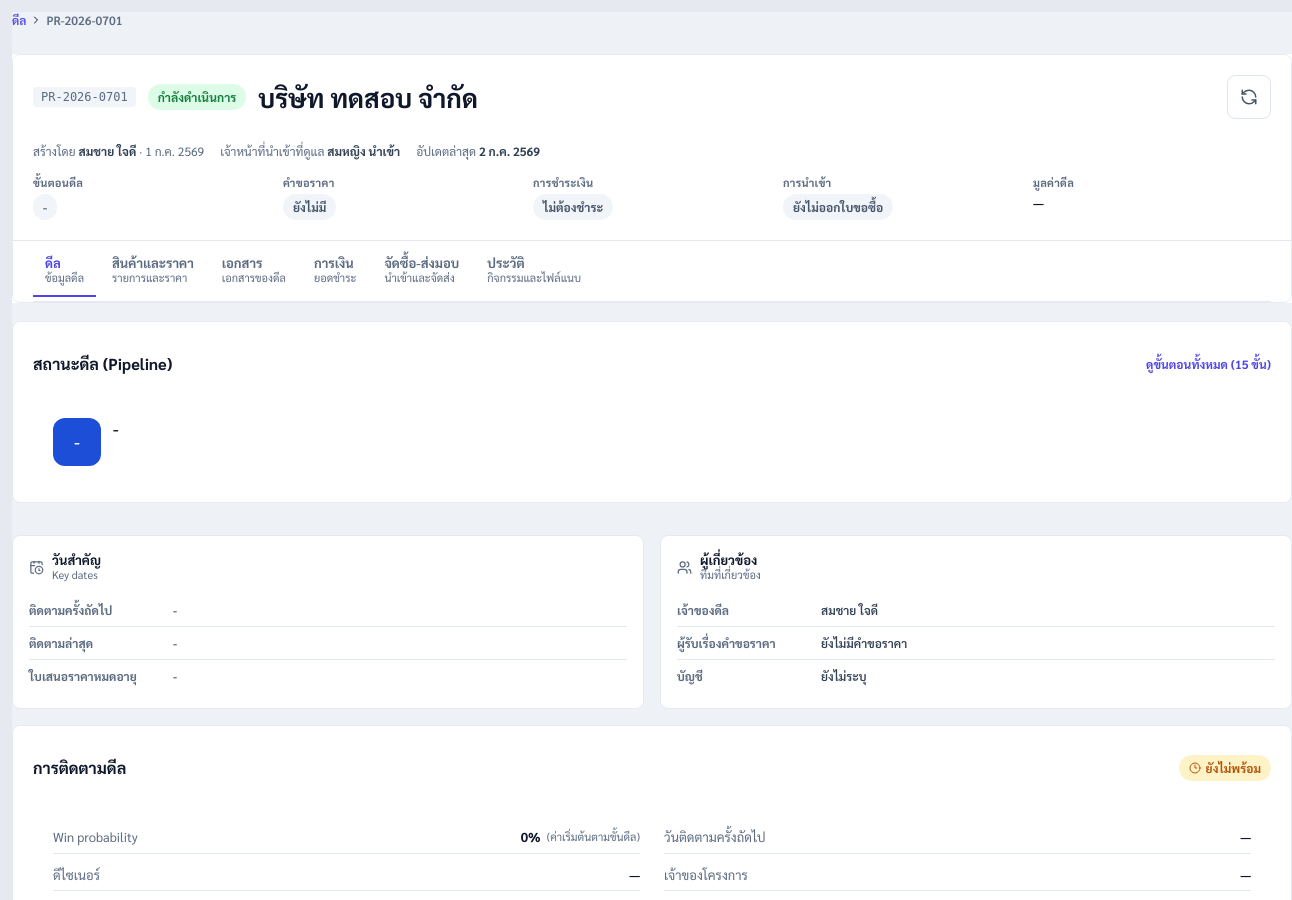
it: TicketDetailPage › folds updated-at into the header and does not re-render the duplicate overview summary panel
Expected: the text "อัปเดตล่าสุด" is shown, [416,143,479,159]
Expected: the text "2 ก.ค. 2569" is shown, [479,143,540,159]
Click the tab "สินค้าและราคา รายการและราคา" at (153, 271), box [100,245,206,297]
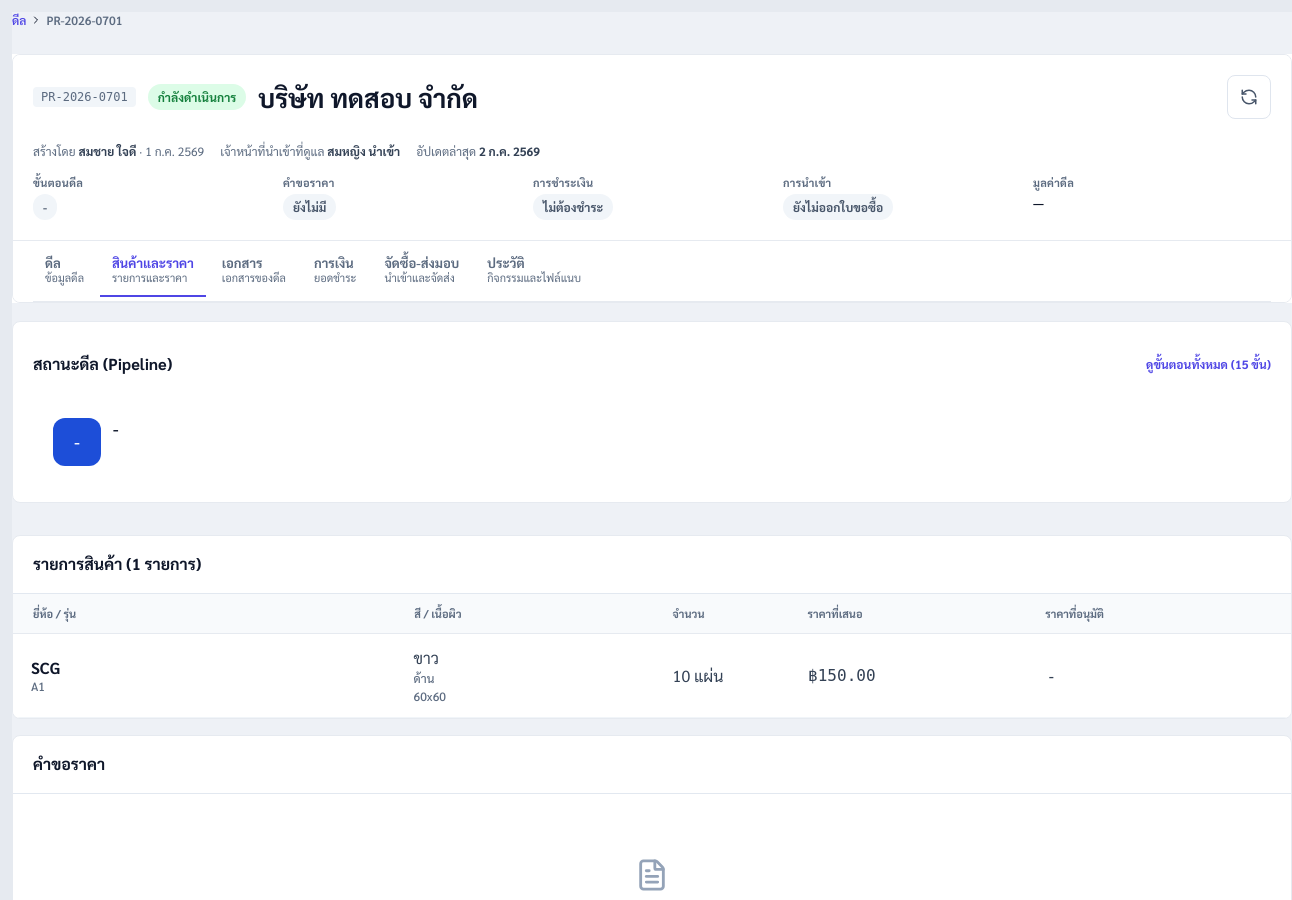
Expected: the heading "รายการสินค้า (1 รายการ)" is shown, [33,552,201,577]
